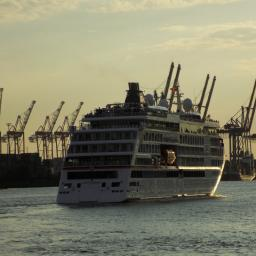cruises: (56, 80, 228, 206)
